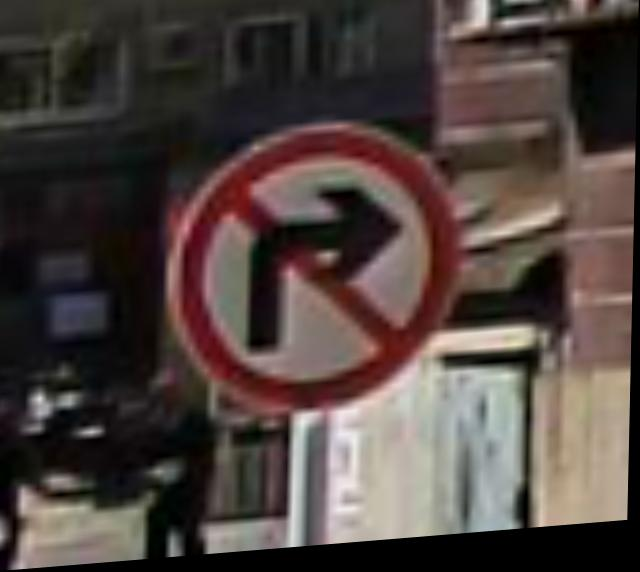not_turn_right: (165, 116, 452, 421)
